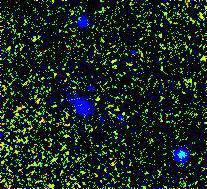star: (83, 85, 113, 115)
